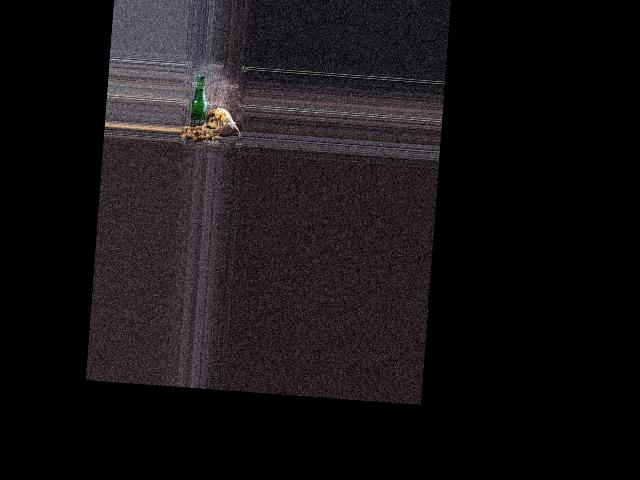beer: (189, 74, 208, 131)
